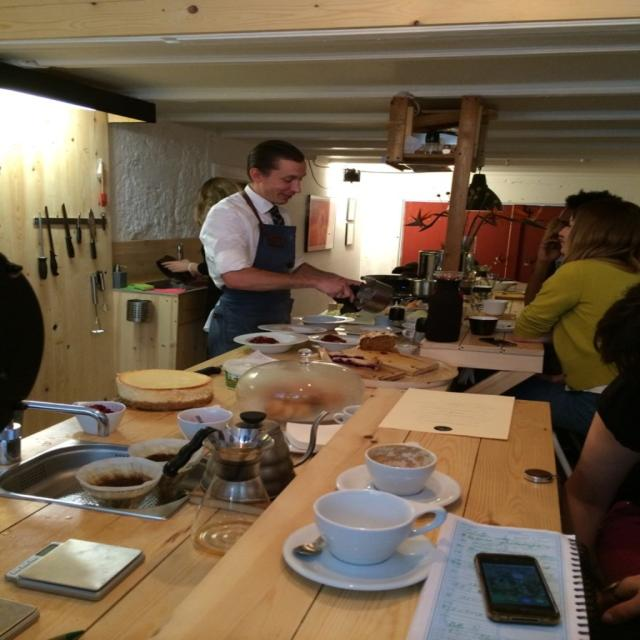Mobile phone: (472, 552, 562, 626), (477, 337, 519, 348)
